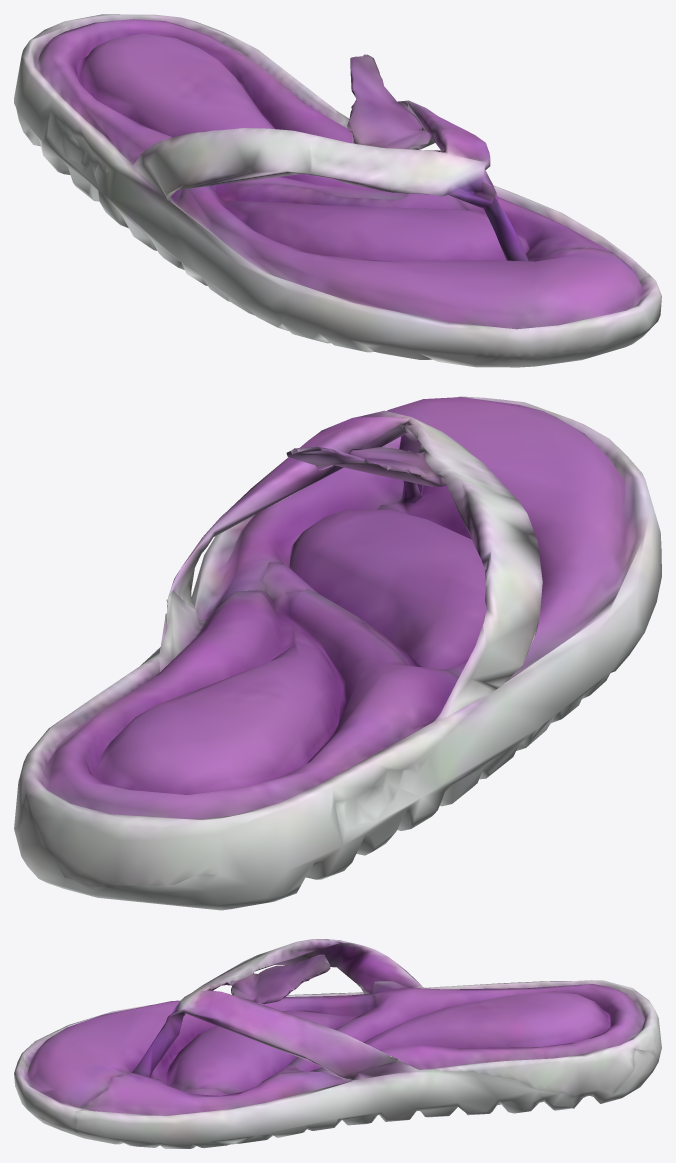
Rendered from Reebok_COMFORT_REEFRESH_FLIP-medium.glb.
3 views of the same model, one above another, from view 1: azimuth 30°, elevation 25°; view 2: azimuth 150°, elevation 25°; view 3: azimuth 270°, elevation 25° (orthographic). The views are drawn at different scales.
Parts seen in each view (by area): view 1: Reebok_COMFORT_REEFRESH_FLIP; view 2: Reebok_COMFORT_REEFRESH_FLIP; view 3: Reebok_COMFORT_REEFRESH_FLIP.
Part boxes in pixels (left/top/right/bottom): Reebok_COMFORT_REEFRESH_FLIP: left=14, top=14, right=661, bottom=367; Reebok_COMFORT_REEFRESH_FLIP: left=14, top=396, right=661, bottom=910; Reebok_COMFORT_REEFRESH_FLIP: left=14, top=939, right=661, bottom=1148.
Size of the model in its own units: 0.1125 by 0.0638 by 0.2569.
1 material, 1 textured.
